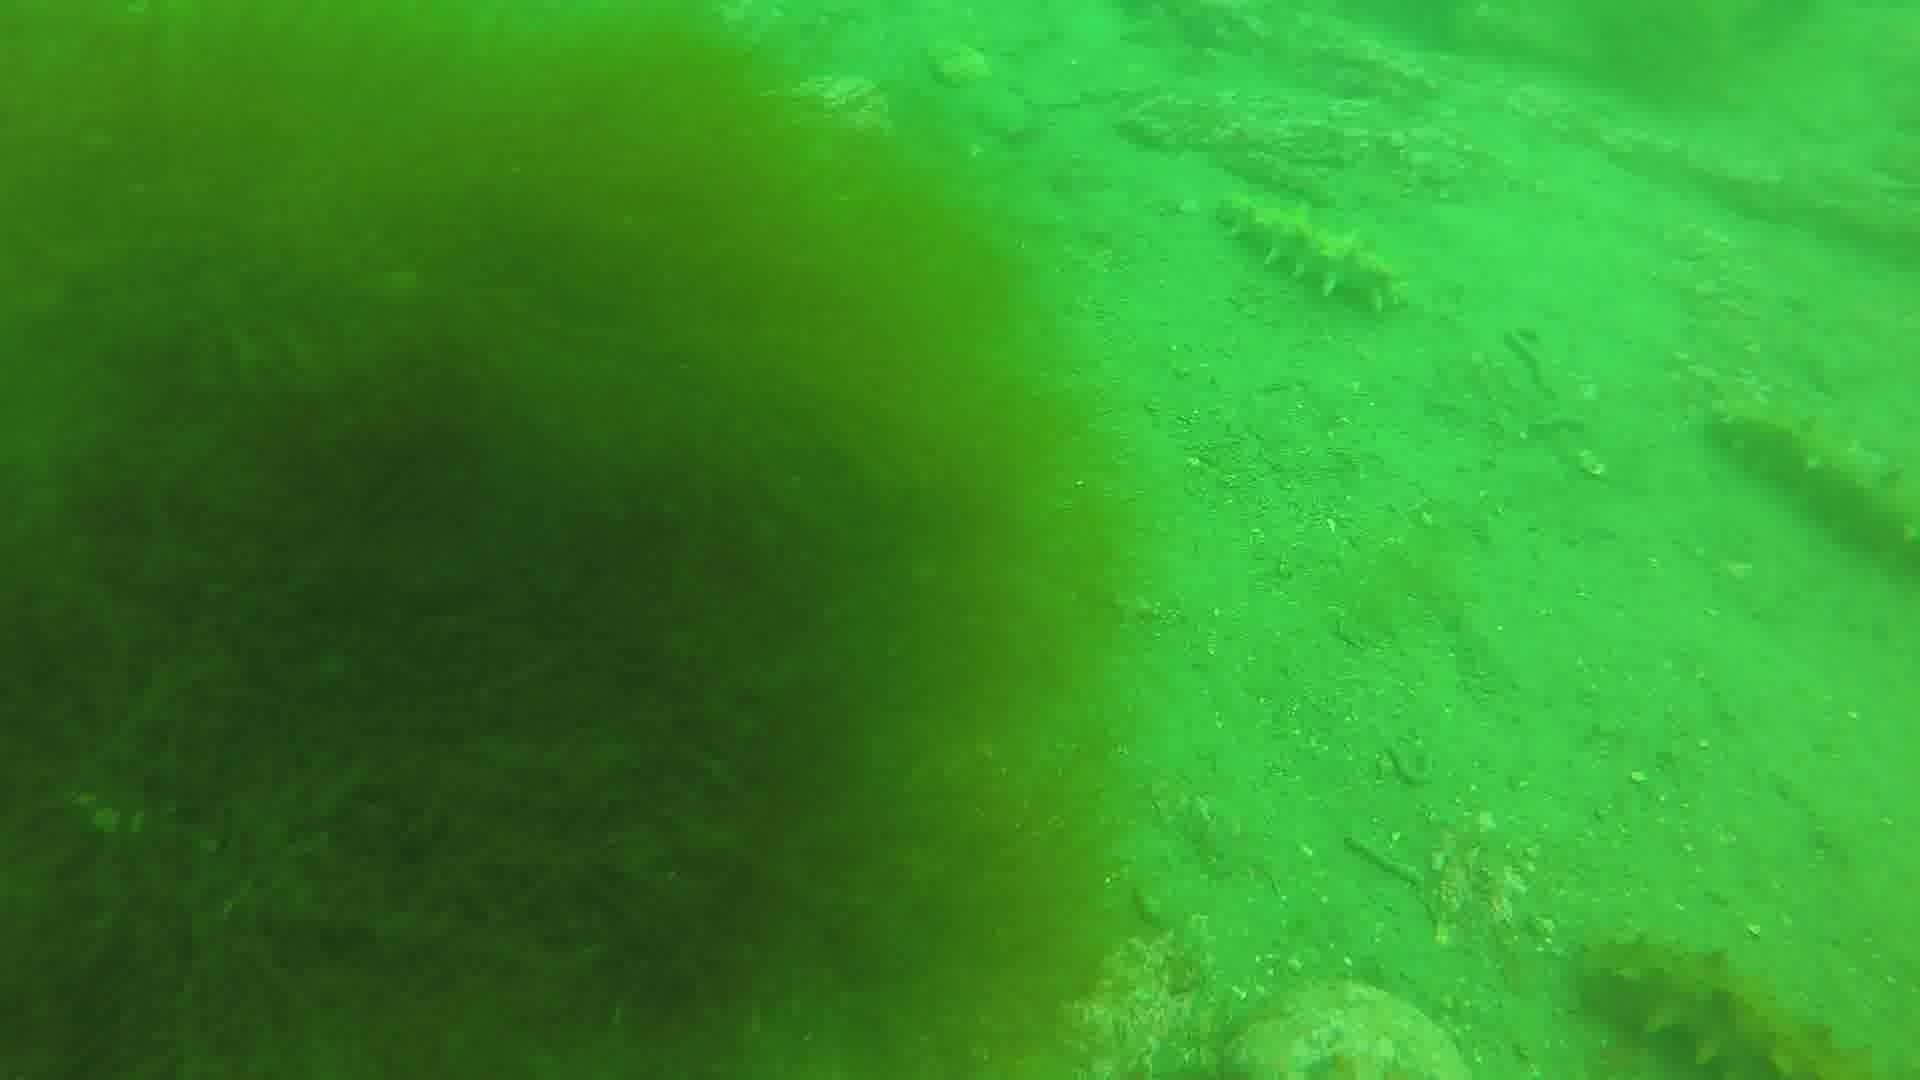holothurian: (1572, 928, 1876, 1079), (1704, 394, 1920, 578), (1213, 182, 1412, 319)
